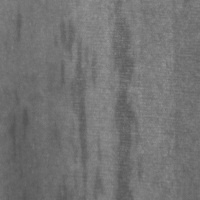inclusion: (107, 5, 146, 197), (57, 27, 98, 198), (54, 16, 75, 88), (6, 101, 29, 165), (9, 7, 28, 43)
